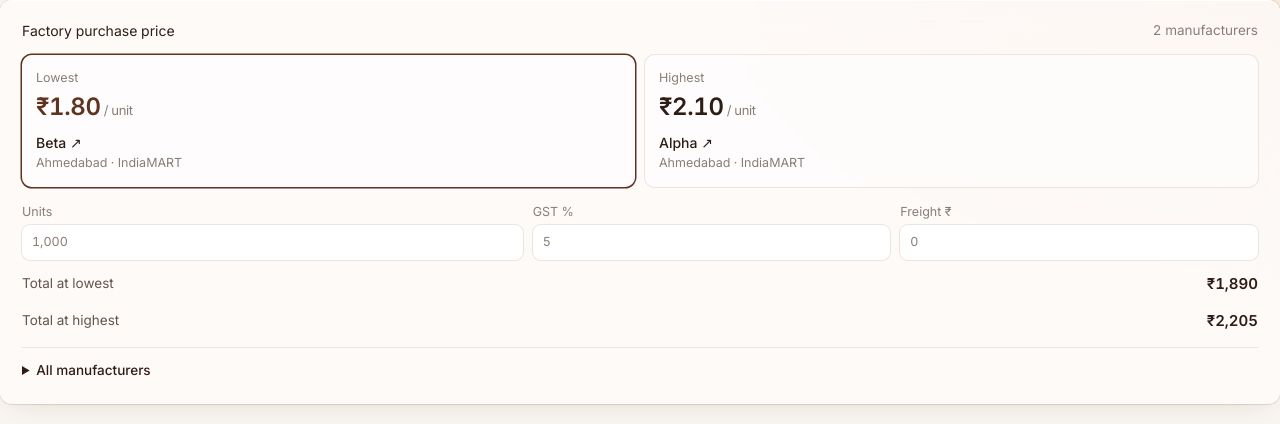
Test: PurchaseCard › GST is prefilled, editable and applied; empty means 0
Expected: the text "₹1,890" is shown, left=1207, top=273, right=1258, bottom=296
Clear the field labelled "GST %". click: (712, 243)
box: left=533, top=225, right=890, bottom=260
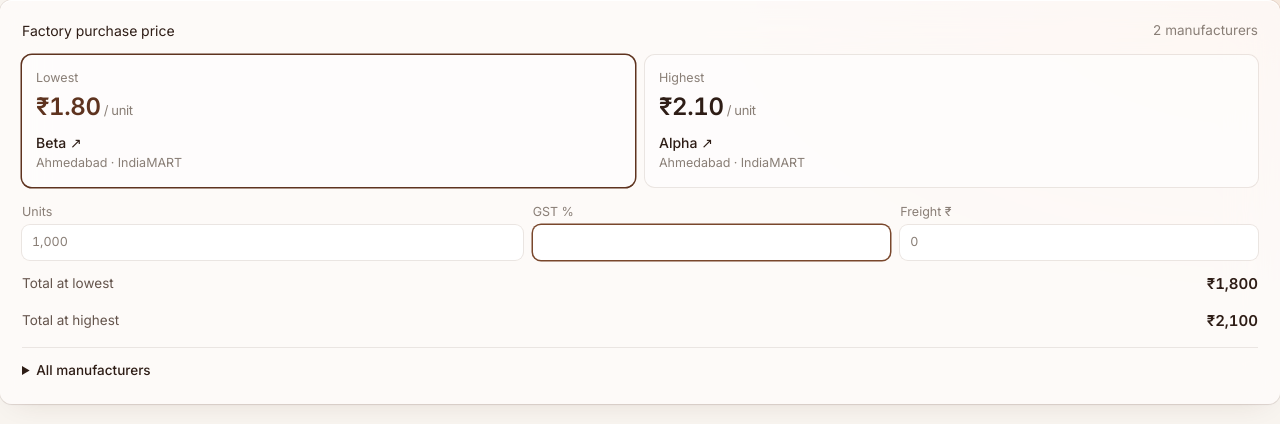
Expected: the text "₹1,800" is shown, left=1207, top=273, right=1258, bottom=296
Type "12" into the field labelled "GST %". click: (712, 243)
box: left=533, top=225, right=890, bottom=260
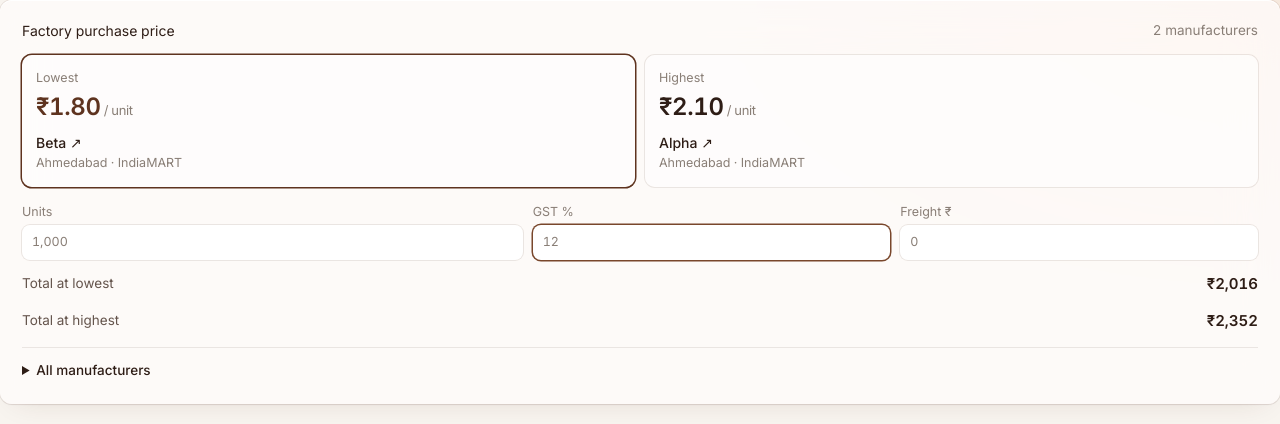
Expected: the text "₹2,016" is shown, left=1207, top=273, right=1258, bottom=296
